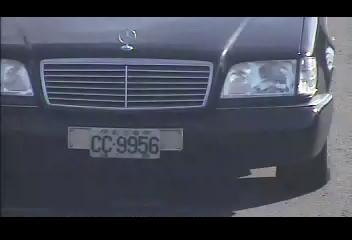plate: (88, 127, 161, 159)
